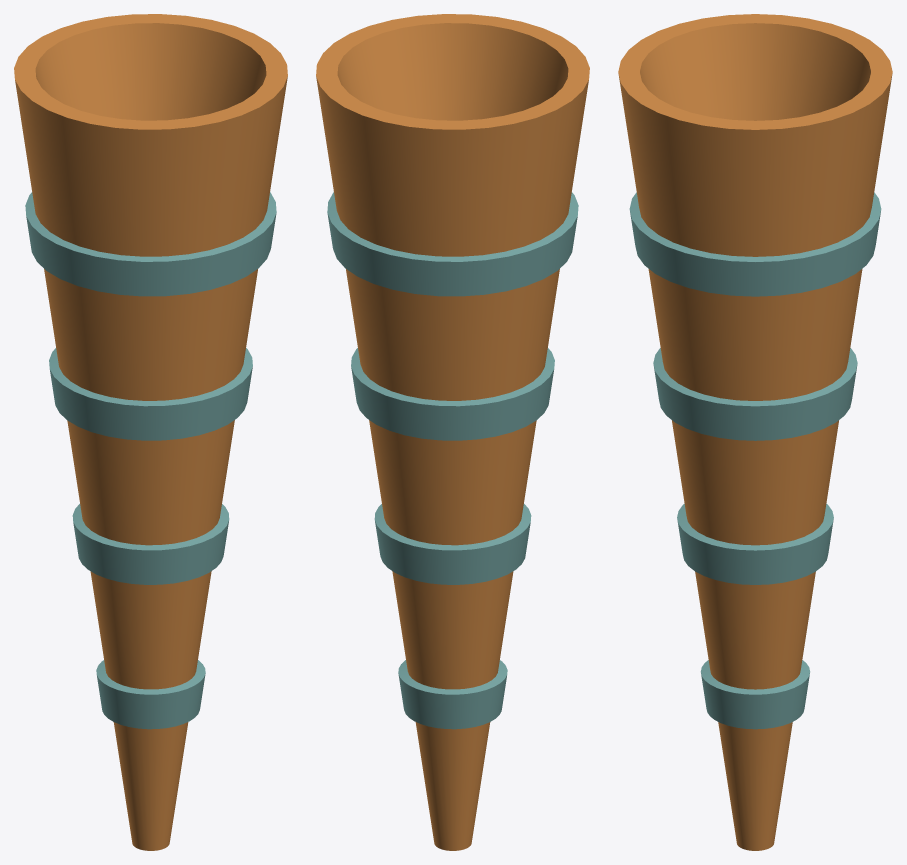
Rendered from torch.fbx.
The picture shows the model from 3 angles, left to right: view 1: azimuth 30°, elevation 25°; view 2: azimuth 150°, elevation 25°; view 3: azimuth 270°, elevation 25°; orthographic projection.
Parts seen in each view (by area): view 1: Torch; view 2: Torch; view 3: Torch.
Part boxes in pixels (<box>): Torch: <box>14,14,287,850</box>; Torch: <box>316,14,589,850</box>; Torch: <box>618,14,892,850</box>.
Bounding box in the file's own units: 23.7 × 23.7 × 73.45.
